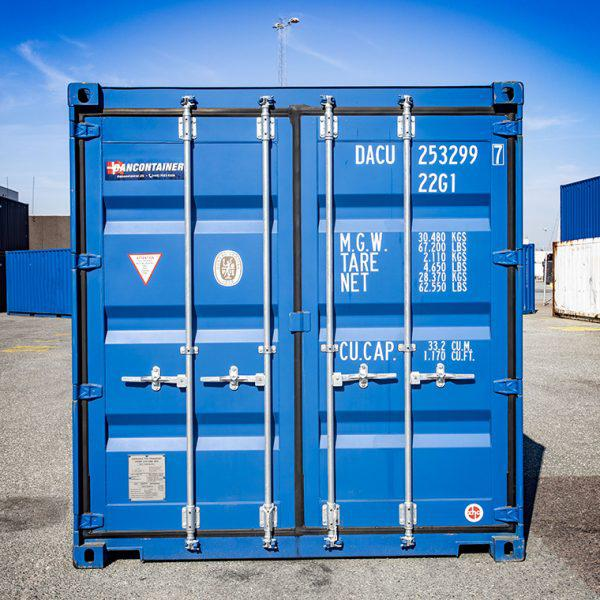ContainerNum: (352, 141, 506, 196)
